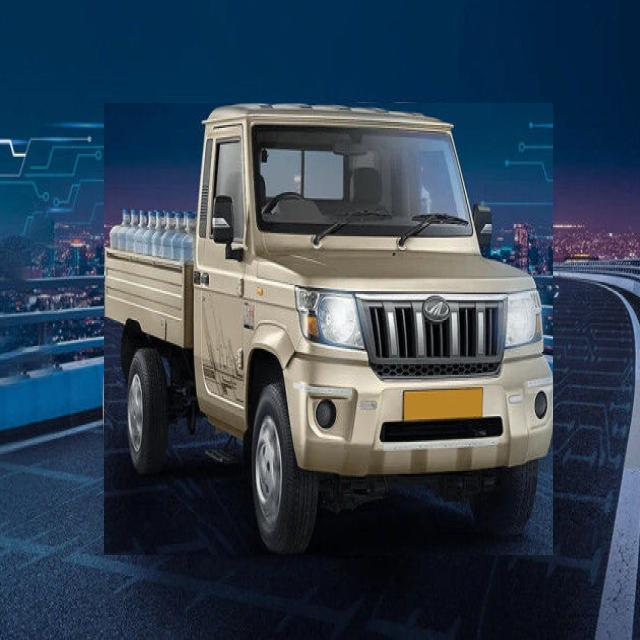truck: (104, 103, 553, 555)
